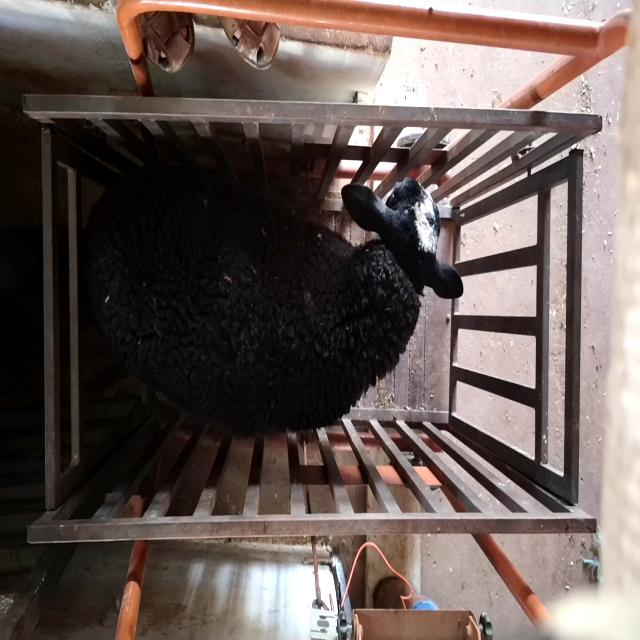sheep: (81, 165, 465, 441)
